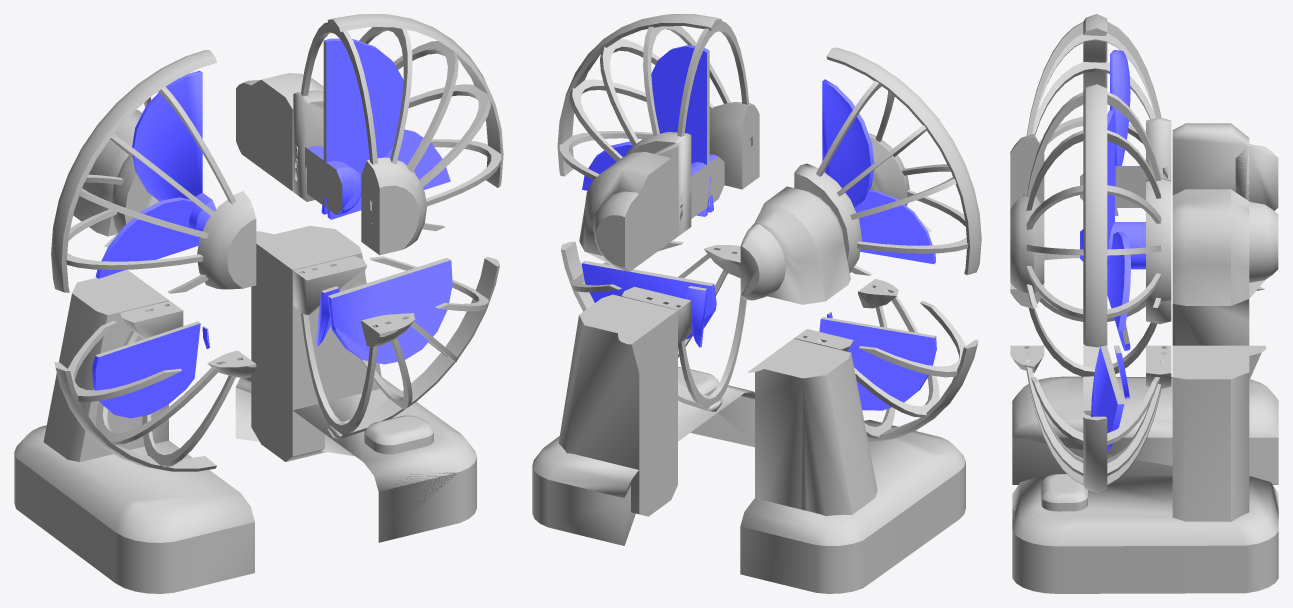
Rendered from fan.fbx.
3 renders of one model, left to right at view 1: azimuth 30°, elevation 25°; view 2: azimuth 150°, elevation 25°; view 3: azimuth 270°, elevation 25°, orthographic. The views are drawn at different scales.
Parts seen in each view (by area): view 1: itemA_pCylinder99, itemA_pCylinder99.003, itemA_pCylinder99.002, itemA_pCylinder99.001; view 2: itemA_pCylinder99, itemA_pCylinder99.003, itemA_pCylinder99.002, itemA_pCylinder99.001; view 3: itemA_pCylinder99.003, itemA_pCylinder99.002, itemA_pCylinder99, itemA_pCylinder99.001.
Part boxes in pixels (bbox=[...]): itemA_pCylinder99: bbox=[14, 269, 256, 593]; itemA_pCylinder99.003: bbox=[235, 225, 499, 542]; itemA_pCylinder99.002: bbox=[236, 14, 503, 255]; itemA_pCylinder99.001: bbox=[51, 50, 256, 293]; itemA_pCylinder99: bbox=[740, 279, 978, 593]; itemA_pCylinder99.003: bbox=[532, 241, 754, 545]; itemA_pCylinder99.002: bbox=[557, 14, 759, 271]; itemA_pCylinder99.001: bbox=[740, 47, 981, 304]; itemA_pCylinder99.003: bbox=[1010, 345, 1278, 593]; itemA_pCylinder99.002: bbox=[1010, 84, 1278, 347]; itemA_pCylinder99: bbox=[1010, 253, 1278, 484]; itemA_pCylinder99.001: bbox=[1010, 14, 1278, 215].
Size of the model in its own units: 313 by 327 by 174.
